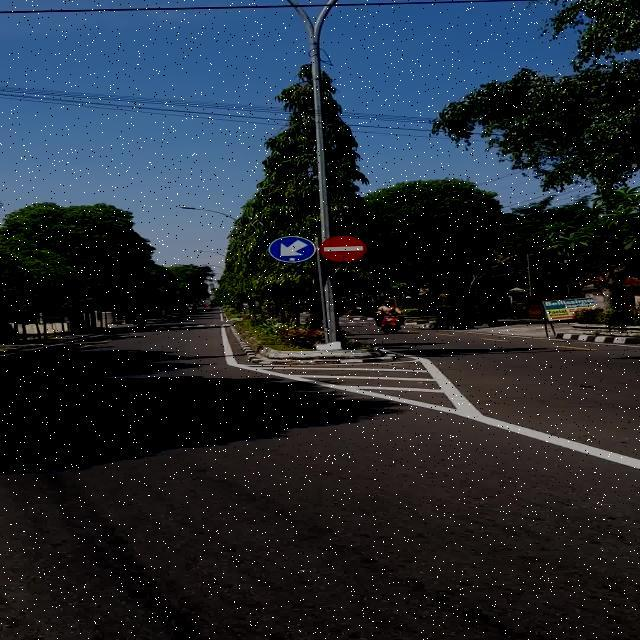Dilarang Masuk: (321, 235, 367, 262)
Lajur Kiri: (268, 236, 316, 263)
